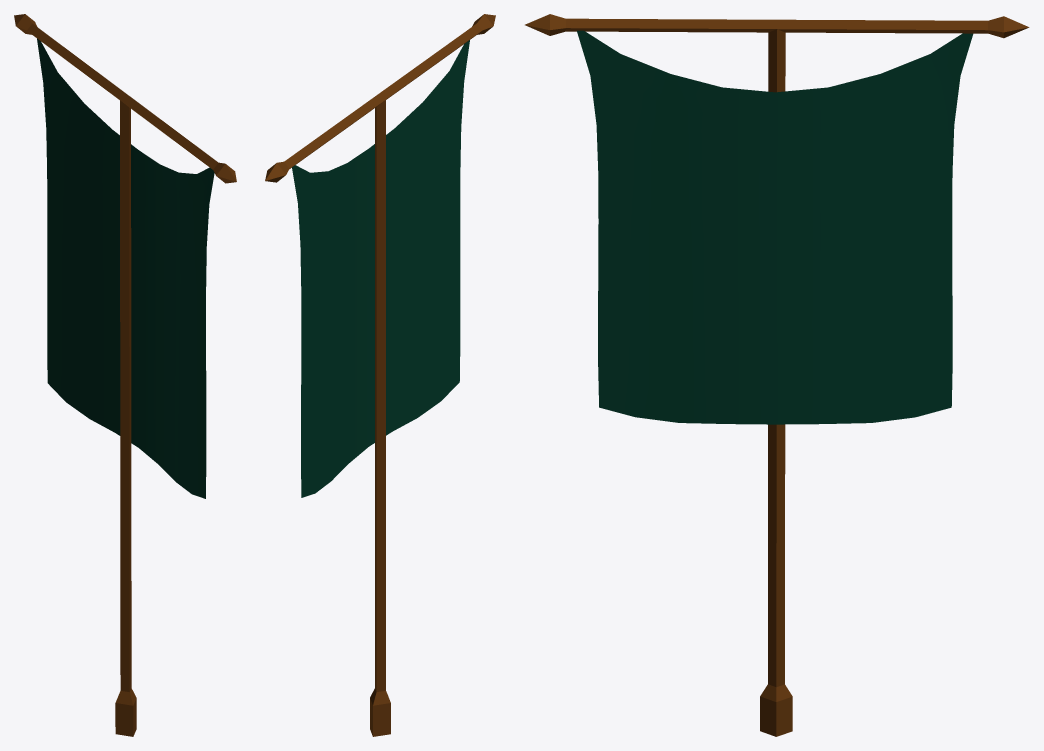
The model's file is green_flag.fbx.
3 views of the same model, side by side, from view 1: azimuth 30°, elevation 25°; view 2: azimuth 150°, elevation 25°; view 3: azimuth 270°, elevation 25° (orthographic). The views are drawn at different scales.
Parts seen in each view (by area): view 1: Cloth, Stick; view 2: Cloth, Stick; view 3: Cloth, Stick.
Part boxes in pixels (left/top/right/bottom): Cloth: left=37, top=38, right=214, bottom=498; Stick: left=14, top=14, right=236, bottom=736; Cloth: left=292, top=40, right=469, bottom=497; Stick: left=265, top=14, right=495, bottom=736; Cloth: left=577, top=30, right=973, bottom=424; Stick: left=525, top=14, right=1029, bottom=736.
Bounding box in the file's own units: 15.13 × 394 × 252.
